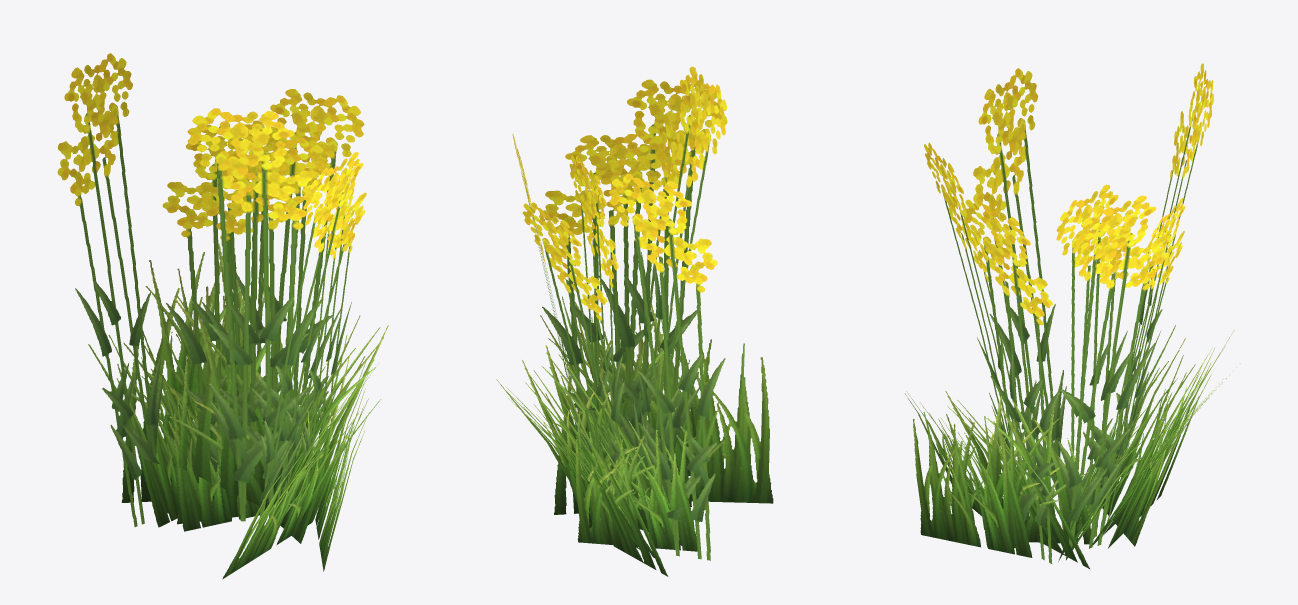
Rendered from Grass_Wildflower_C.fbx.
The picture shows the model from 3 angles, left to right: view 1: azimuth 30°, elevation 25°; view 2: azimuth 150°, elevation 25°; view 3: azimuth 270°, elevation 25°; orthographic projection.
Parts seen in each view (by area): view 1: Grass_Wildflower_C_LOD0; view 2: Grass_Wildflower_C_LOD0; view 3: Grass_Wildflower_C_LOD0.
Boxes of the visible parts, <box> form: Grass_Wildflower_C_LOD0: <box>57,53,388,579</box>; Grass_Wildflower_C_LOD0: <box>496,66,773,576</box>; Grass_Wildflower_C_LOD0: <box>904,63,1240,568</box>.
Size of what is drawn, in the model's own units: 0.5809 by 0.7685 by 0.6812.
